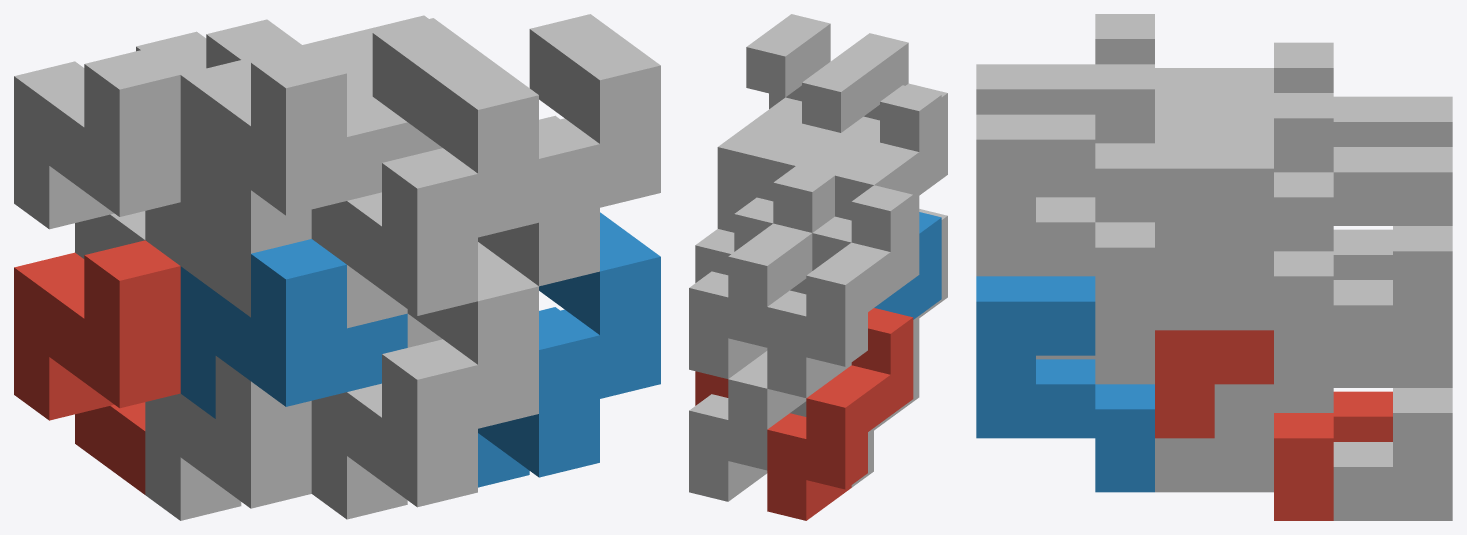
The model's file is tiling.obj.
3 views of the same model, side by side, from view 1: azimuth 30°, elevation 25°; view 2: azimuth 150°, elevation 25°; view 3: azimuth 270°, elevation 25° (orthographic). The views are drawn at different scales.
Parts seen in each view (by area): view 1: copy_2_domain_4, copy_2_domain_2, copy_1_domain_1, copy_1_domain_4, copy_2_domain_8, copy_1_domain_3, copy_2_domain_6, copy_1_domain_2, copy_2_domain_1, copy_2_domain_3, copy_1_domain_8, copy_1_domain_7; view 2: copy_1_domain_3, copy_1_domain_7, copy_1_domain_1, copy_1_domain_5, copy_1_domain_4, copy_1_domain_8, copy_2_domain_8, copy_2_domain_7, copy_2_domain_4, copy_1_domain_2, copy_2_domain_3, copy_2_domain_1 (+2 smaller); view 3: copy_1_domain_7, copy_2_domain_6, copy_2_domain_8, copy_1_domain_8, copy_1_domain_5, copy_2_domain_7, copy_2_domain_5, copy_1_domain_6, copy_1_domain_3, copy_2_domain_4, copy_1_domain_4, copy_2_domain_3 (+1 smaller).
Boxes of the visible parts, x1,y1,x2,y2 form: copy_2_domain_4: (311,43,538,328); copy_2_domain_2: (311,242,538,519); copy_1_domain_1: (14,240,180,494); copy_1_domain_4: (180,47,407,227); copy_2_domain_8: (478,14,660,286); copy_1_domain_3: (14,49,180,258); copy_2_domain_6: (478,212,660,487); copy_1_domain_2: (180,239,407,418); copy_2_domain_1: (145,356,311,520); copy_2_domain_3: (145,45,372,317); copy_1_domain_8: (302,18,468,156); copy_1_domain_7: (136,19,301,74); copy_1_domain_3: (767,185,913,398); copy_1_domain_7: (689,166,834,378); copy_1_domain_1: (767,308,913,520); copy_1_domain_5: (689,351,806,501); copy_1_domain_4: (835,85,941,220); copy_1_domain_8: (717,66,863,232); copy_2_domain_8: (746,14,830,108); copy_2_domain_7: (695,114,801,282); copy_2_domain_4: (825,33,947,195); copy_1_domain_2: (874,212,941,319); copy_2_domain_3: (790,133,919,311); copy_2_domain_1: (790,316,919,487); copy_1_domain_7: (1274,93,1452,359); copy_2_domain_6: (976,276,1154,492); copy_2_domain_8: (976,114,1154,330); copy_1_domain_8: (1095,64,1273,330); copy_1_domain_5: (1274,359,1452,520); copy_2_domain_7: (1155,143,1333,359); copy_2_domain_5: (1155,330,1333,520); copy_1_domain_6: (1095,330,1273,492); copy_1_domain_3: (1274,42,1452,279); copy_2_domain_4: (976,64,1095,197); copy_1_domain_4: (1095,14,1273,92); copy_2_domain_3: (1155,93,1273,118).
Size of the model in its own units: 6 by 8 by 8.
